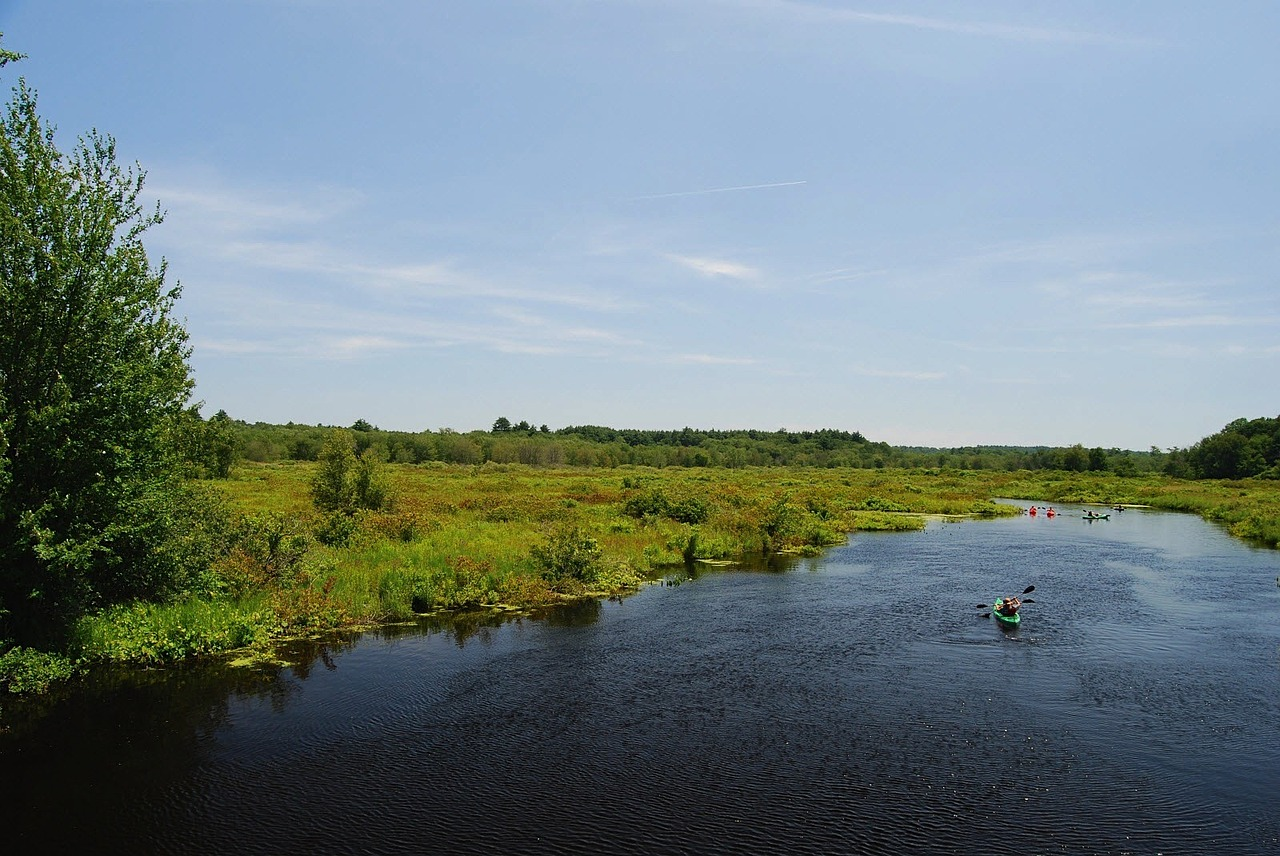kayak: (991, 596, 1029, 635)
